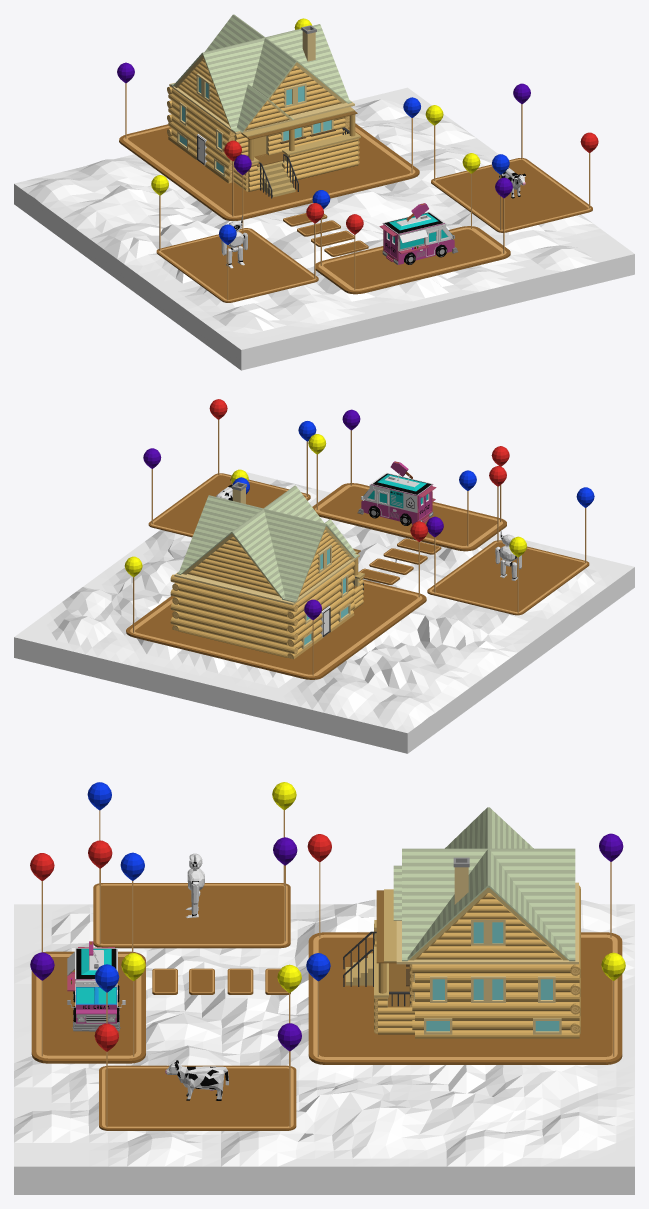
The picture shows the model from 3 angles, top to bottom: view 1: azimuth 30°, elevation 25°; view 2: azimuth 150°, elevation 25°; view 3: azimuth 270°, elevation 25°; orthographic projection. The views are drawn at different scales.
Parts seen in each view (by area): view 1: Cube.013, Cube.1516, VEHICLES_ICE_CREAM_TRUCK, OBJRANDOM_PLATZEEBOT; view 2: Cube.013, Cube.1516, VEHICLES_ICE_CREAM_TRUCK, OBJRANDOM_PLATZEEBOT; view 3: Cube.013, Cube.1516, VEHICLES_ICE_CREAM_TRUCK, ANIMAL_VACA, OBJRANDOM_PLATZEEBOT.
Boxes of the visible parts, <box> form: Cube.013: <box>14,18,634,370</box>; Cube.1516: <box>167,14,360,198</box>; VEHICLES_ICE_CREAM_TRUCK: <box>379,203,458,264</box>; OBJRANDOM_PLATZEEBOT: <box>221,216,247,268</box>; Cube.013: <box>14,399,634,753</box>; Cube.1516: <box>170,482,364,659</box>; VEHICLES_ICE_CREAM_TRUCK: <box>357,461,436,525</box>; OBJRANDOM_PLATZEEBOT: <box>495,530,521,580</box>; Cube.013: <box>14,782,634,1194</box>; Cube.1516: <box>343,807,580,1038</box>; VEHICLES_ICE_CREAM_TRUCK: <box>67,941,125,1031</box>; ANIMAL_VACA: <box>165,1060,228,1100</box>; OBJRANDOM_PLATZEEBOT: <box>186,853,204,918</box>.
Bounding box in the file's own units: 4000 × 1789 × 4000.
Materials: 42 (2 with a texture image).
